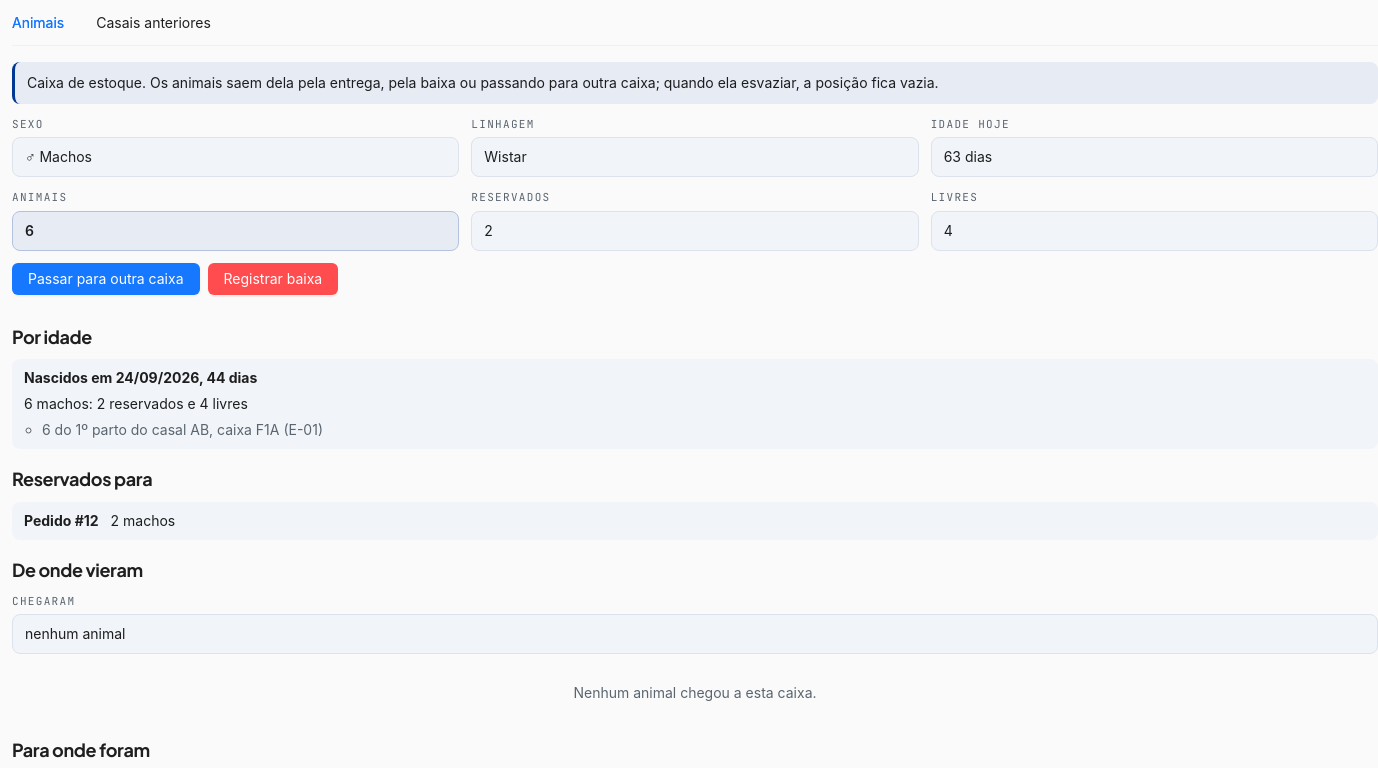
Test: ficha da caixa de estoque › a caixa que já foi de casal mostra os casais de antes, sem ação
Click the tab "Casais anteriores" at x=154, y=23, box [96,12,211,34]
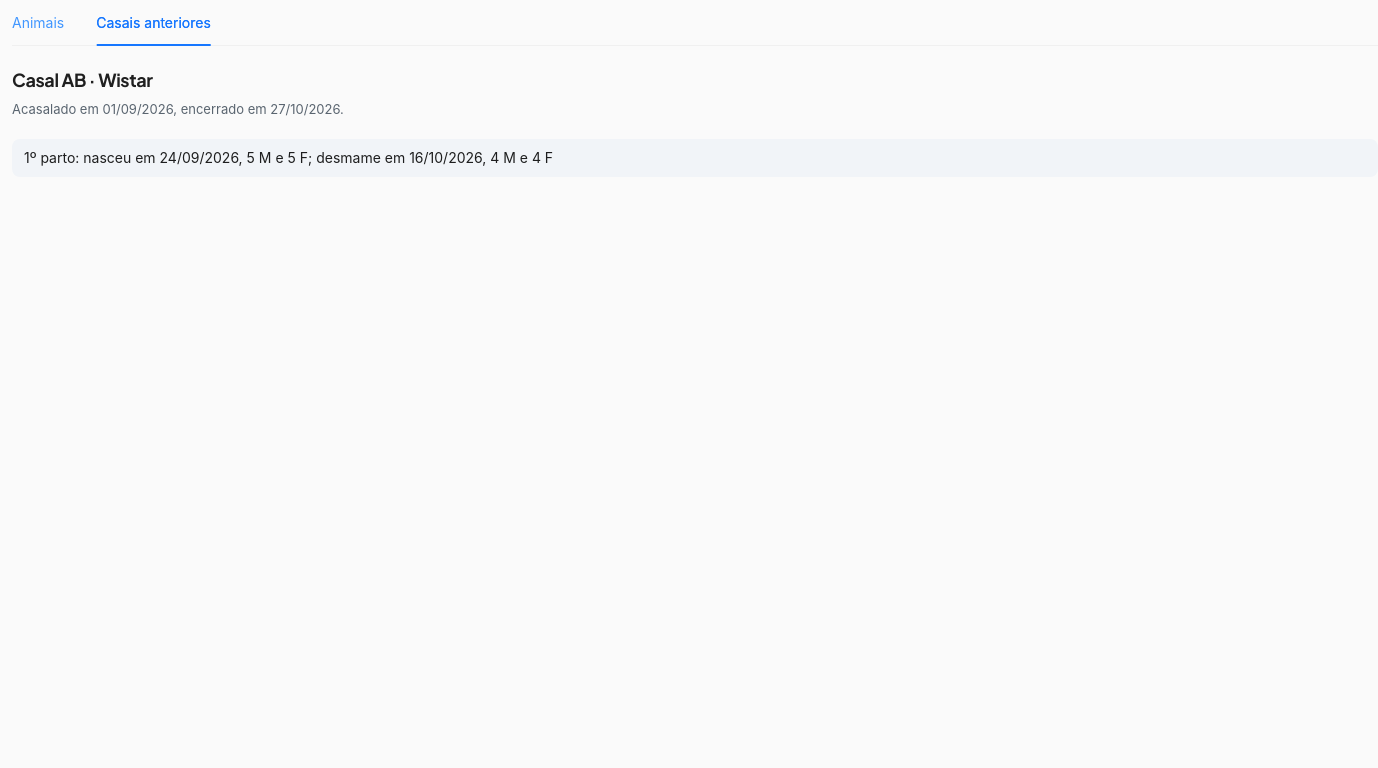
Check: the heading "Casal AB · Wistar" is shown, box [12,68,153,91]
Check: the list item "1º parto: nasceu em 24/09/2026, 5 M e 5 F; desmame em 16/10/2026, 4 M e 4 F" is shown, box [12,139,1377,177]
